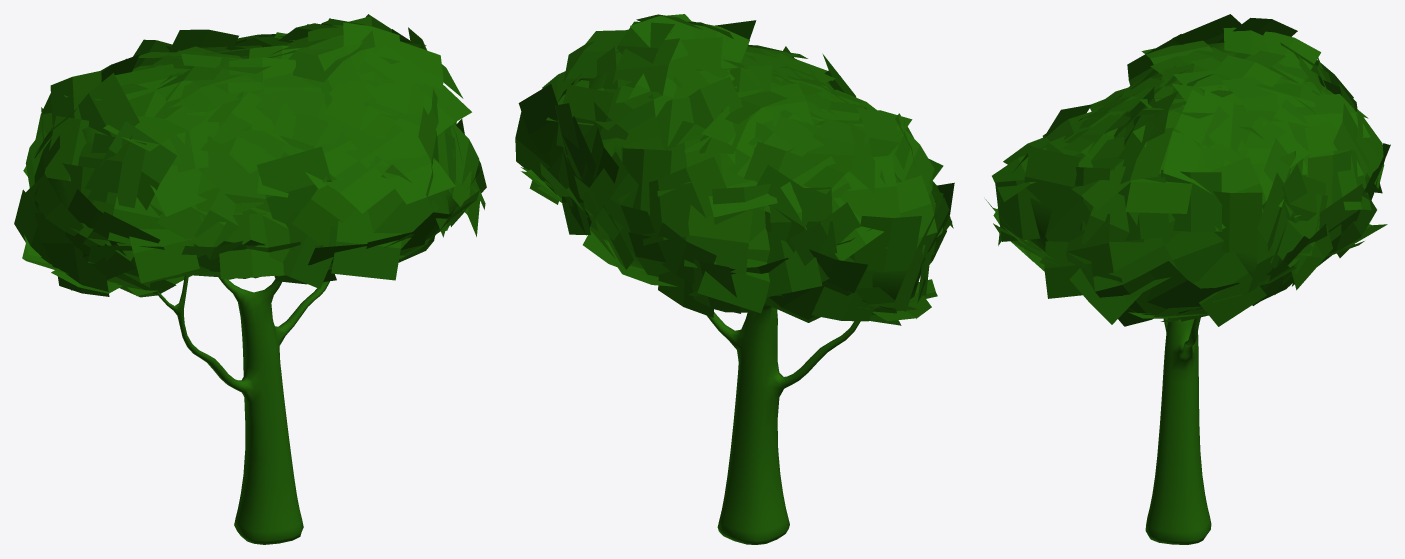
The model's file is top_agac_02.fbx.
3 views of the same model, side by side, from view 1: azimuth 30°, elevation 25°; view 2: azimuth 150°, elevation 25°; view 3: azimuth 270°, elevation 25° (orthographic). The views are drawn at different scales.
Visible parts, largest first — view 1: top_agac_02; view 2: top_agac_02; view 3: top_agac_02.
Boxes of the visible parts, <box> form: top_agac_02: <box>14,14,486,544</box>; top_agac_02: <box>515,14,954,544</box>; top_agac_02: <box>985,14,1390,544</box>.
Bounding box in the file's own units: 9.78 × 8.67 × 11.27.
